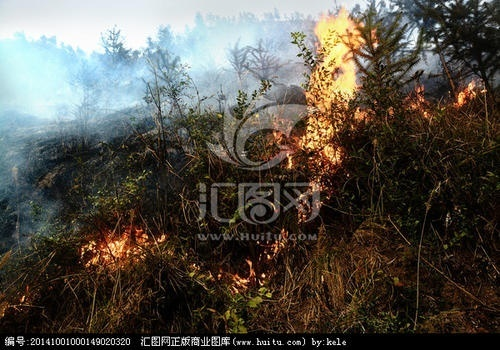fire: (294, 4, 378, 164), (80, 223, 172, 269), (403, 75, 479, 115), (453, 79, 481, 105)
